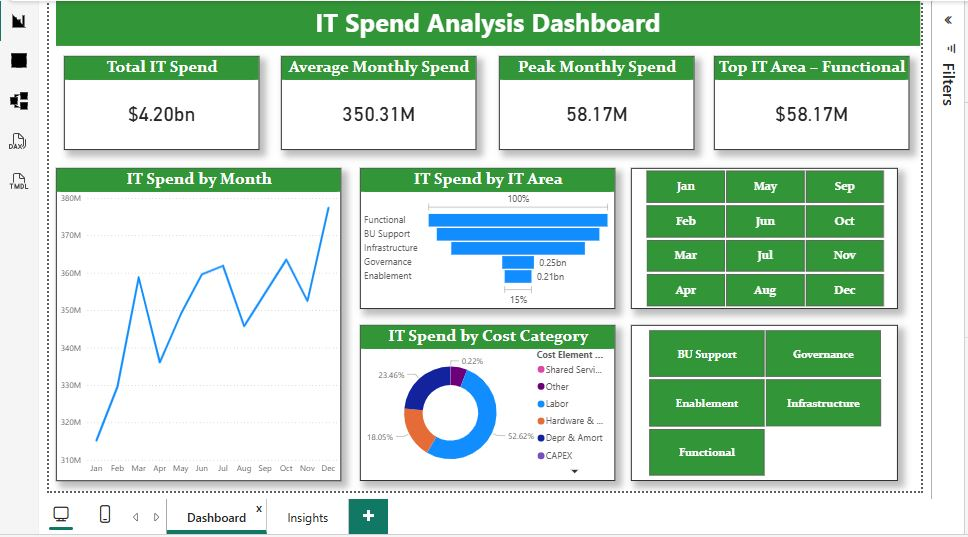

The dashboard page shown, as its layout file describes it:
{"tool":"powerbi","page":{"name":"Dashboard","canvas":[1280,720],"ordinal":0},"visuals":[{"type":"textbox","box":[10.3,0,1269.6,66.1],"z":0},{"type":"lineChart","title":"IT Spend by Month","fields":{"Category":["Dim_Date.Month"],"Y":["Sum(FactITSpend.Value)"]},"box":[10.3,245.4,418.8,459.9],"z":1000},{"type":"donutChart","title":"IT Spend by Cost Category","fields":{"Category":["Dim_CostElement.Cost Element Group"],"Y":["FactITSpend.Total Spend"]},"box":[457,476.1,374.7,229.2],"z":2000},{"type":"card","title":"Total IT Spend","fields":{"Values":["FactITSpend.Total Spend"]},"box":[22,80.8,286.5,138.1],"z":3000},{"type":"card","title":"Average Monthly Spend","fields":{"Values":["FactITSpend.Avg Monthly Spend"]},"box":[340.9,80.8,286.5,138.1],"z":4000},{"type":"card","title":"Top IT Area – Functional","fields":{"Values":["FactITSpend.Max Spend"]},"box":[977.1,80.8,286.5,138.1],"z":5000},{"type":"funnel","title":"IT Spend by IT Area","fields":{"Category":["Dim_Department.IT Area"],"Y":["FactITSpend.Total Spend"]},"box":[457,245.4,374.7,207.2],"z":6000},{"type":"card","title":"Peak Monthly Spend","fields":{"Values":["FactITSpend.Max Monthly Spend"]},"box":[661.2,80.8,286.5,138.1],"z":7000},{"type":"slicer","fields":{"Values":["Dim_Date.Month"]},"box":[855.2,245.4,392.3,207.2],"z":8000},{"type":"slicer","fields":{"Values":["Dim_Department.IT Area"]},"box":[855.2,476.1,392.3,229.2],"z":9000}]}

Visuals, with their boxes on the page's 1280x720 design canvas (x1, y1, x2, y2). These are canvas units, not pixel positions in the 968x537 screenshot, which may show the page scaled, cropped or inside an application window:
textbox: rect(10, 0, 1280, 66)
"IT Spend by Month" lineChart: rect(10, 245, 429, 705)
"IT Spend by Cost Category" donutChart: rect(457, 476, 832, 705)
"Total IT Spend" card: rect(22, 81, 308, 219)
"Average Monthly Spend" card: rect(341, 81, 627, 219)
"Top IT Area – Functional" card: rect(977, 81, 1264, 219)
"IT Spend by IT Area" funnel: rect(457, 245, 832, 453)
"Peak Monthly Spend" card: rect(661, 81, 948, 219)
slicer - Dim_Date.Month: rect(855, 245, 1248, 453)
slicer - Dim_Department.IT Area: rect(855, 476, 1248, 705)
